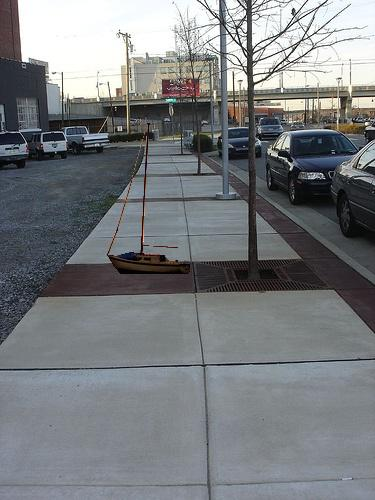tampered: (108, 124, 190, 274)
